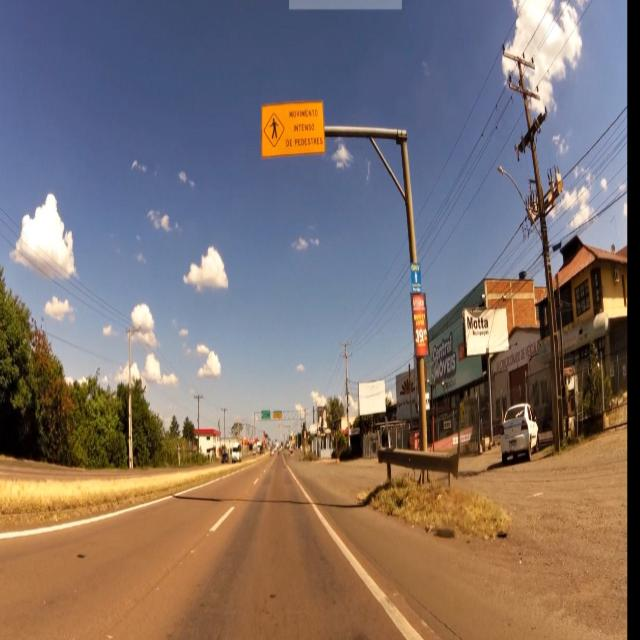ESP-20: (260, 104, 326, 154)
